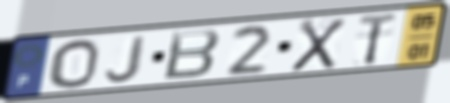2: (226, 23, 274, 78)
B: (161, 27, 224, 82)
J: (103, 34, 150, 85)
O: (47, 37, 101, 90)
T: (356, 11, 400, 68)
X: (288, 17, 349, 74)
